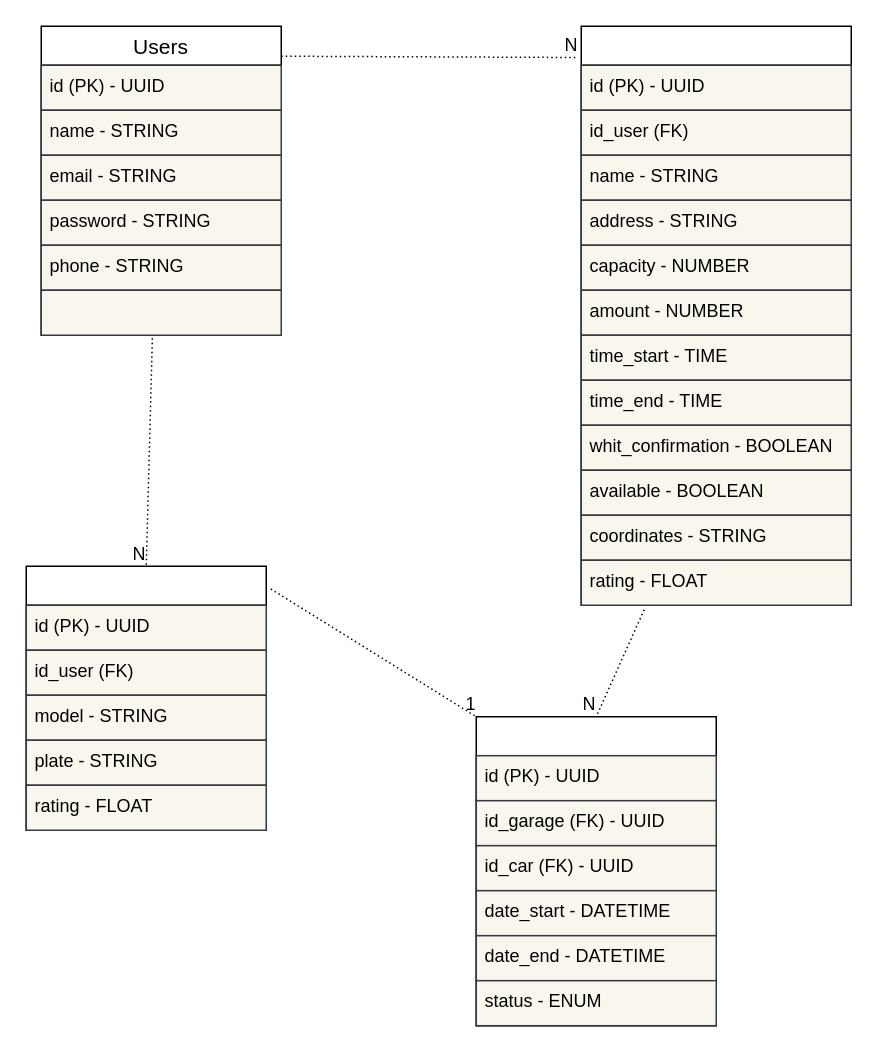
The diagram is 878 pixels wide and 1056 high, and some of its shapes have lost their labels. Each missing label, with the box of its shape:
Booking: (475, 715, 716, 1026)
Cars: (25, 565, 266, 830)
Garages: (580, 25, 851, 605)
role - ENUM: (40, 289, 281, 335)
